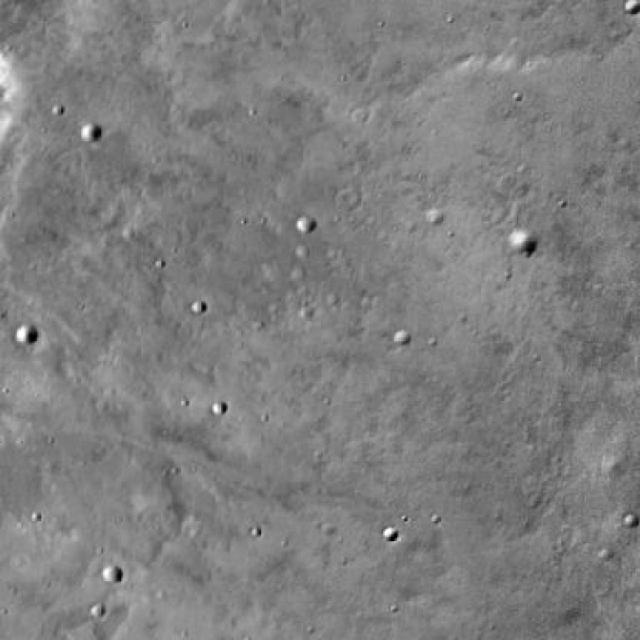crater: (100, 560, 123, 586), (512, 233, 536, 253), (21, 326, 41, 346), (295, 215, 316, 233), (80, 124, 100, 141), (212, 400, 230, 415)
